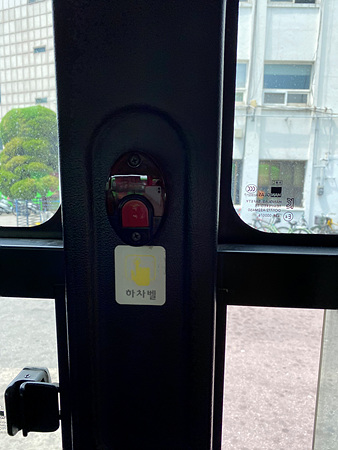bell: (104, 159, 171, 244)
